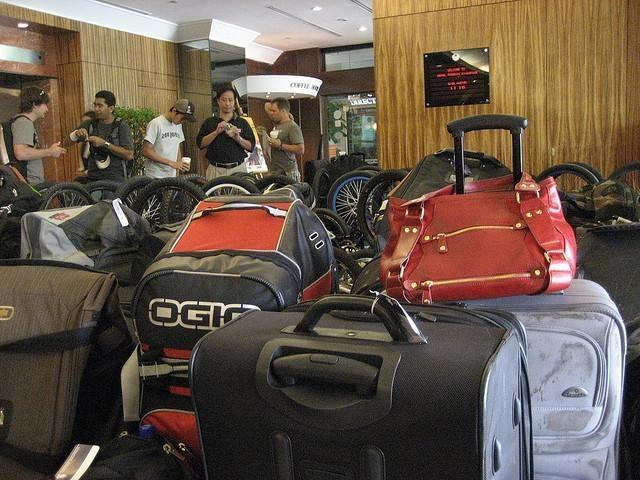bicycle: (130, 178, 208, 224), (358, 168, 410, 236), (328, 170, 377, 214), (36, 180, 96, 211), (536, 162, 607, 184), (333, 242, 364, 292), (200, 175, 262, 199), (312, 208, 349, 244), (176, 173, 260, 186), (256, 174, 300, 192)
